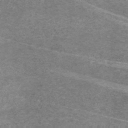finishing roll printing: (0, 36, 128, 70), (86, 4, 128, 21)
